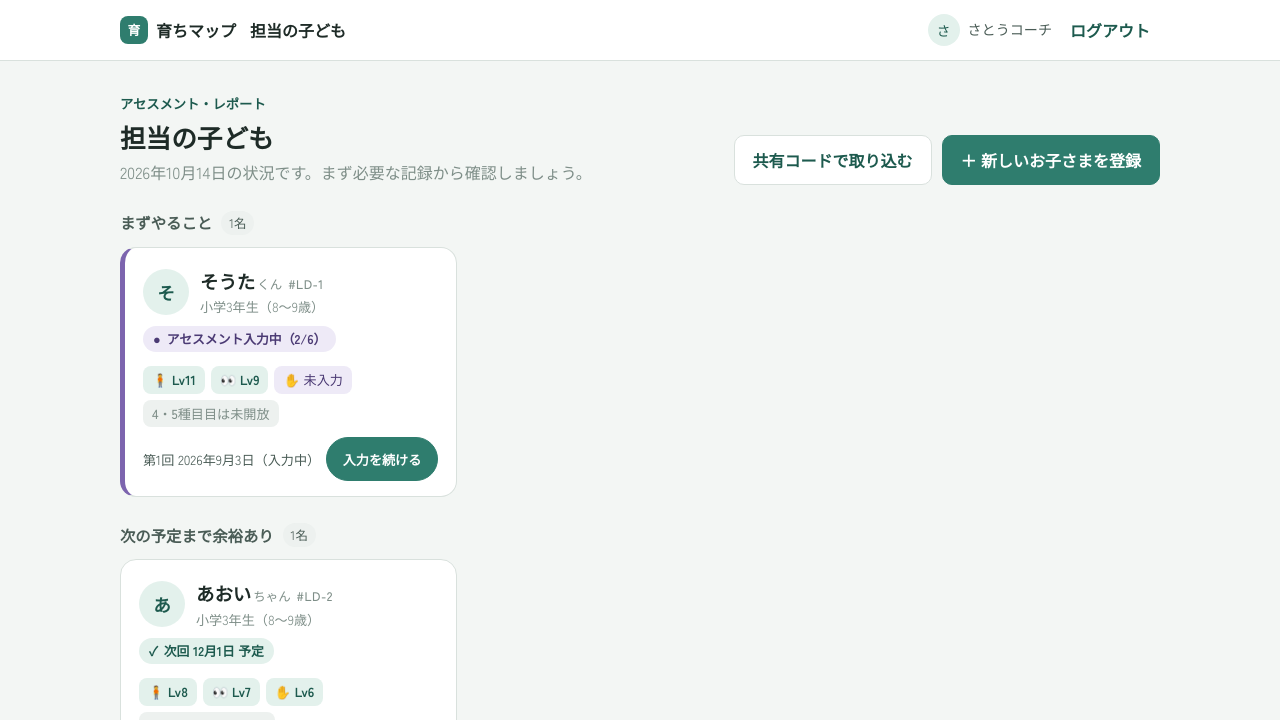
Test: 担当の子ども一覧 › オーナー移譲コードで取り込んだときは、オーナーになったことを伝える
Expected: the link "そうた" is shown, [200,268,282,294]
Click the button "共有コードで取り込む". click: (832, 160)
box: [734,135,932,185]
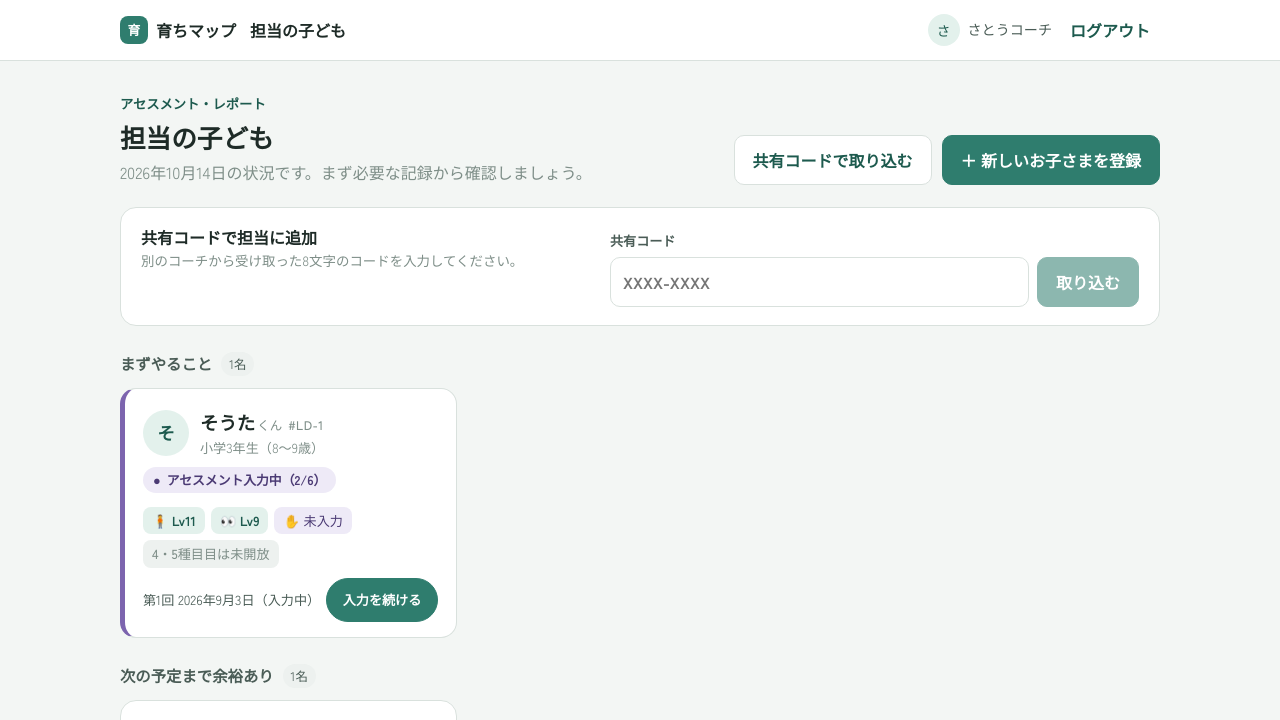
Type "ABCDEFGH" into the field labelled "共有コード". click: (819, 282)
box: [610,256,1029,307]
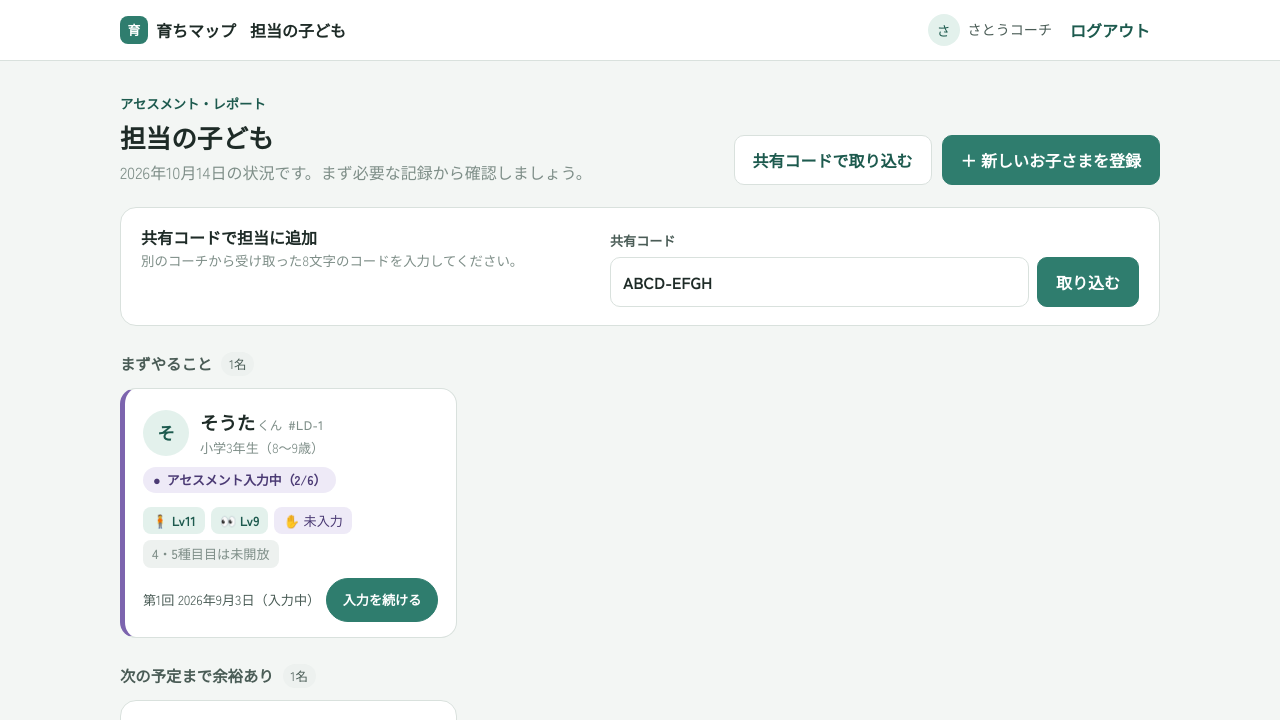
Click the button "取り込む". click: (1088, 282)
box: [1037,256,1139,307]
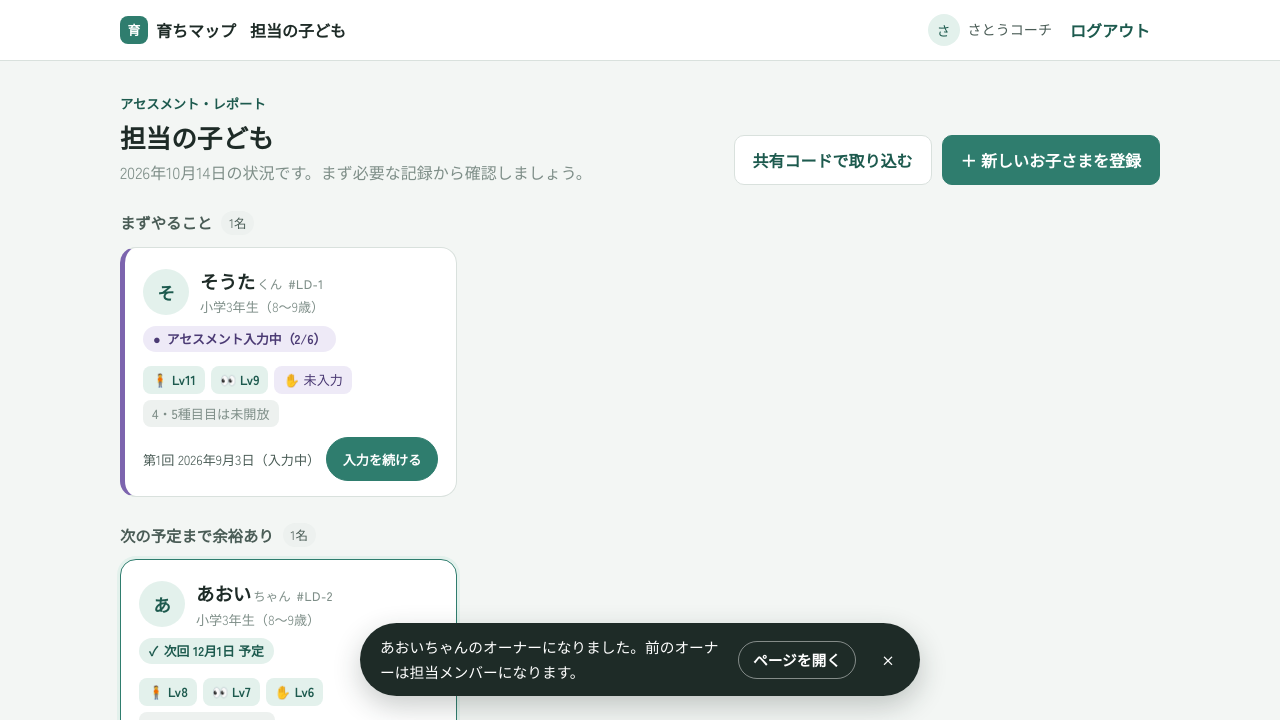
Expected: the message shows "あおいちゃんのオーナーになりました", [380,636,718,682]
Expected: the button "ページを開く" is shown, [738,641,856,679]
